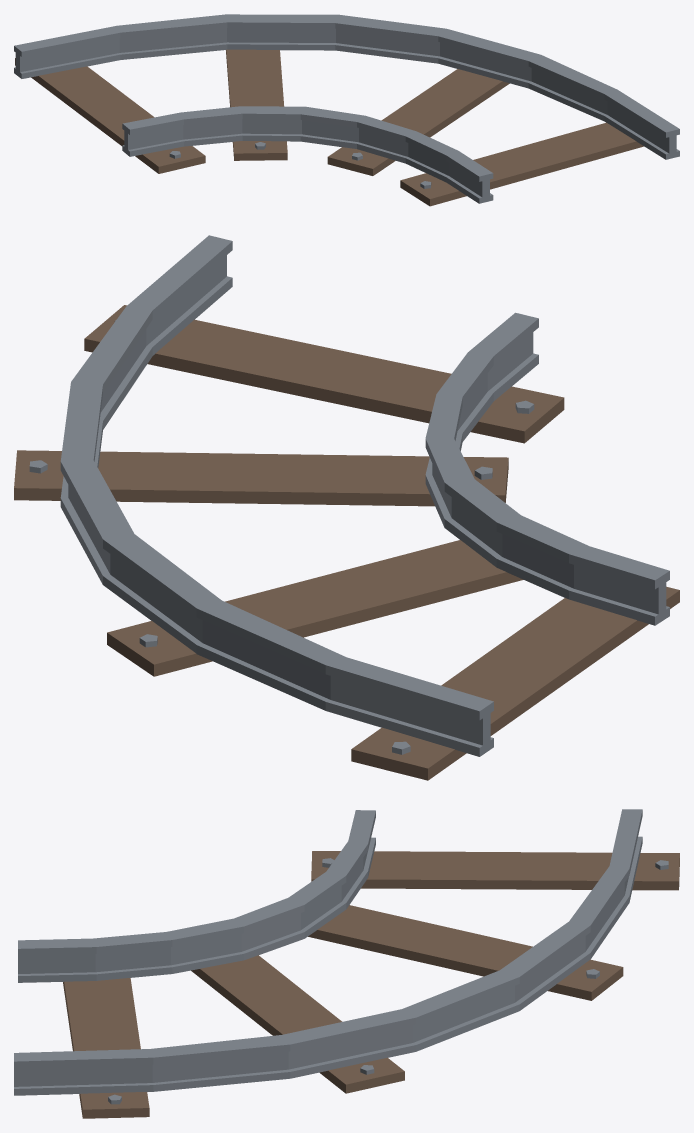
Rendered from Track_TurnRight.fbx.
The picture shows the model from 3 angles, top to bottom: view 1: azimuth 30°, elevation 25°; view 2: azimuth 150°, elevation 25°; view 3: azimuth 270°, elevation 25°; orthographic projection. The views are drawn at different scales.
Parts seen in each view (by area): view 1: Track_TurnRight; view 2: Track_TurnRight; view 3: Track_TurnRight.
Boxes of the visible parts, x1=… form: Track_TurnRight: x1=14, y1=14, x2=679, y2=206; Track_TurnRight: x1=14, y1=235, x2=679, y2=780; Track_TurnRight: x1=14, y1=809, x2=679, y2=1118.
Size of the model in its own units: 189 by 14.22 by 199.
